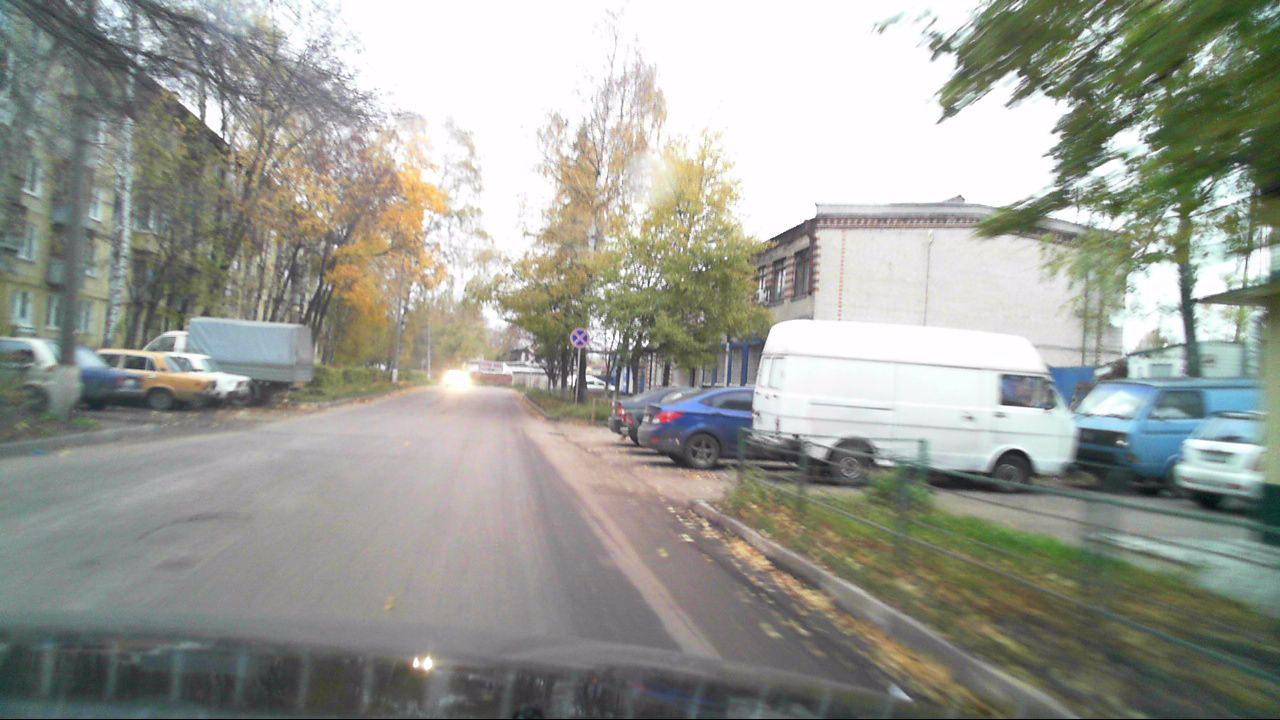No Parking: (570, 327, 589, 348)
